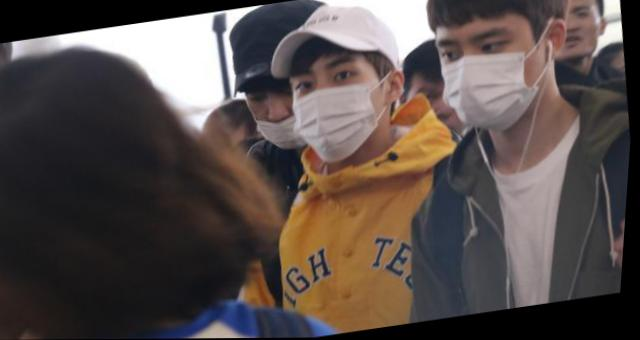NONE: (547, 1, 607, 61)
OK: (285, 44, 408, 162), (432, 20, 548, 132)
WRONG: (244, 73, 333, 158)
